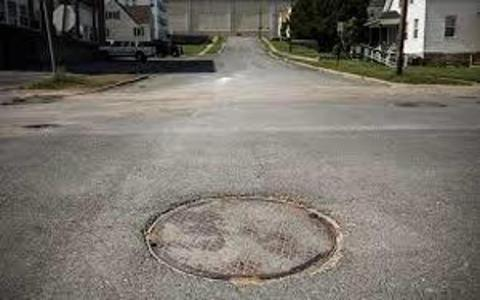proper manhole: (140, 189, 340, 286)
